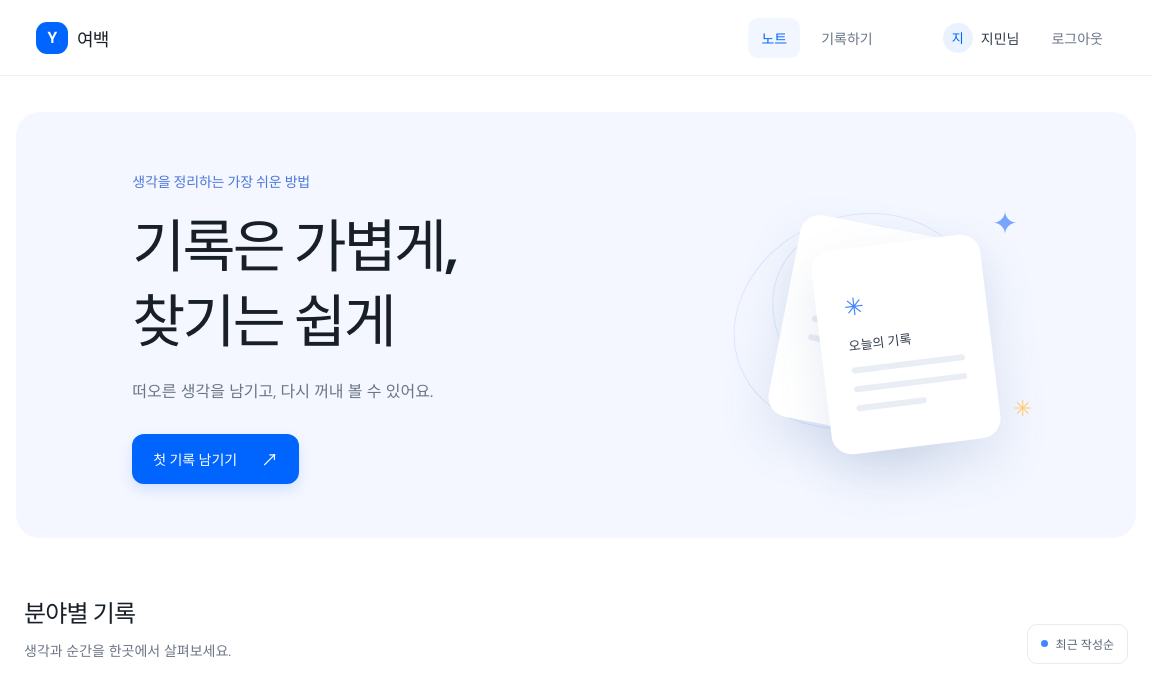
it: 여백 페이지 흐름 › 로그아웃에 성공하면 계정 메뉴를 다시 표시한다
expect the element with test id "user-profile" shows "지민님": met, box [981,30,1019,48]
Click the button with class "logout-button" at (1077, 38), box [1038,18,1116,58]
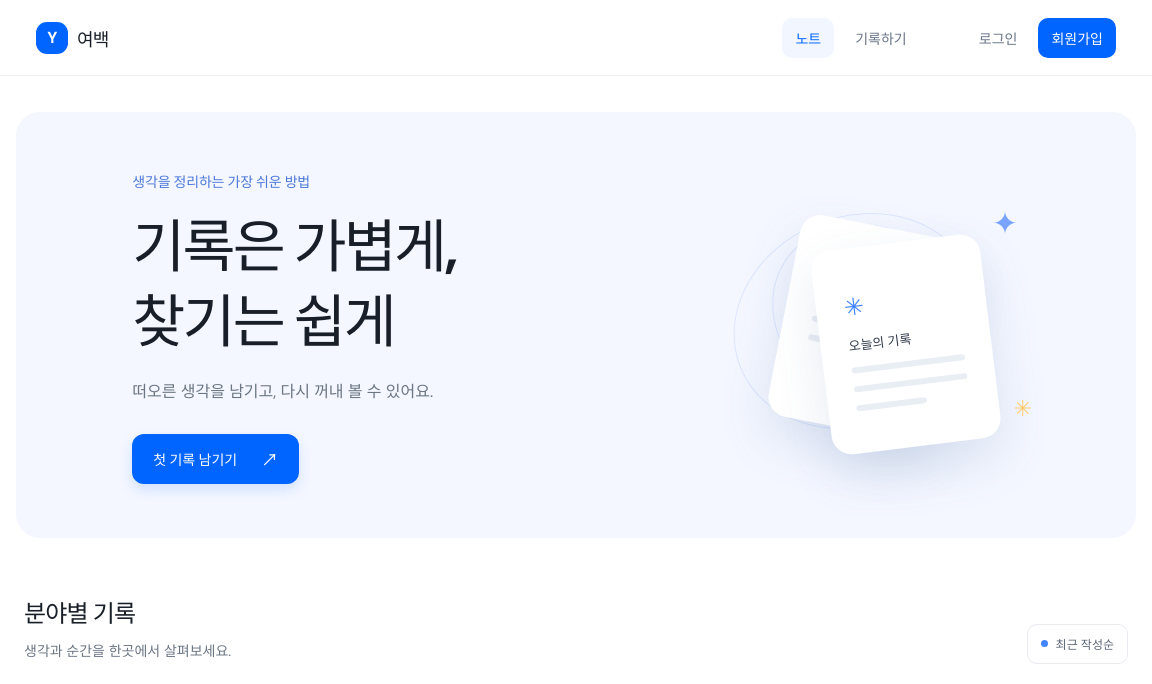
expect the text "로그인" is shown: met, box [979,30,1017,48]
expect the text "회원가입" is shown: met, box [1038,18,1116,58]
